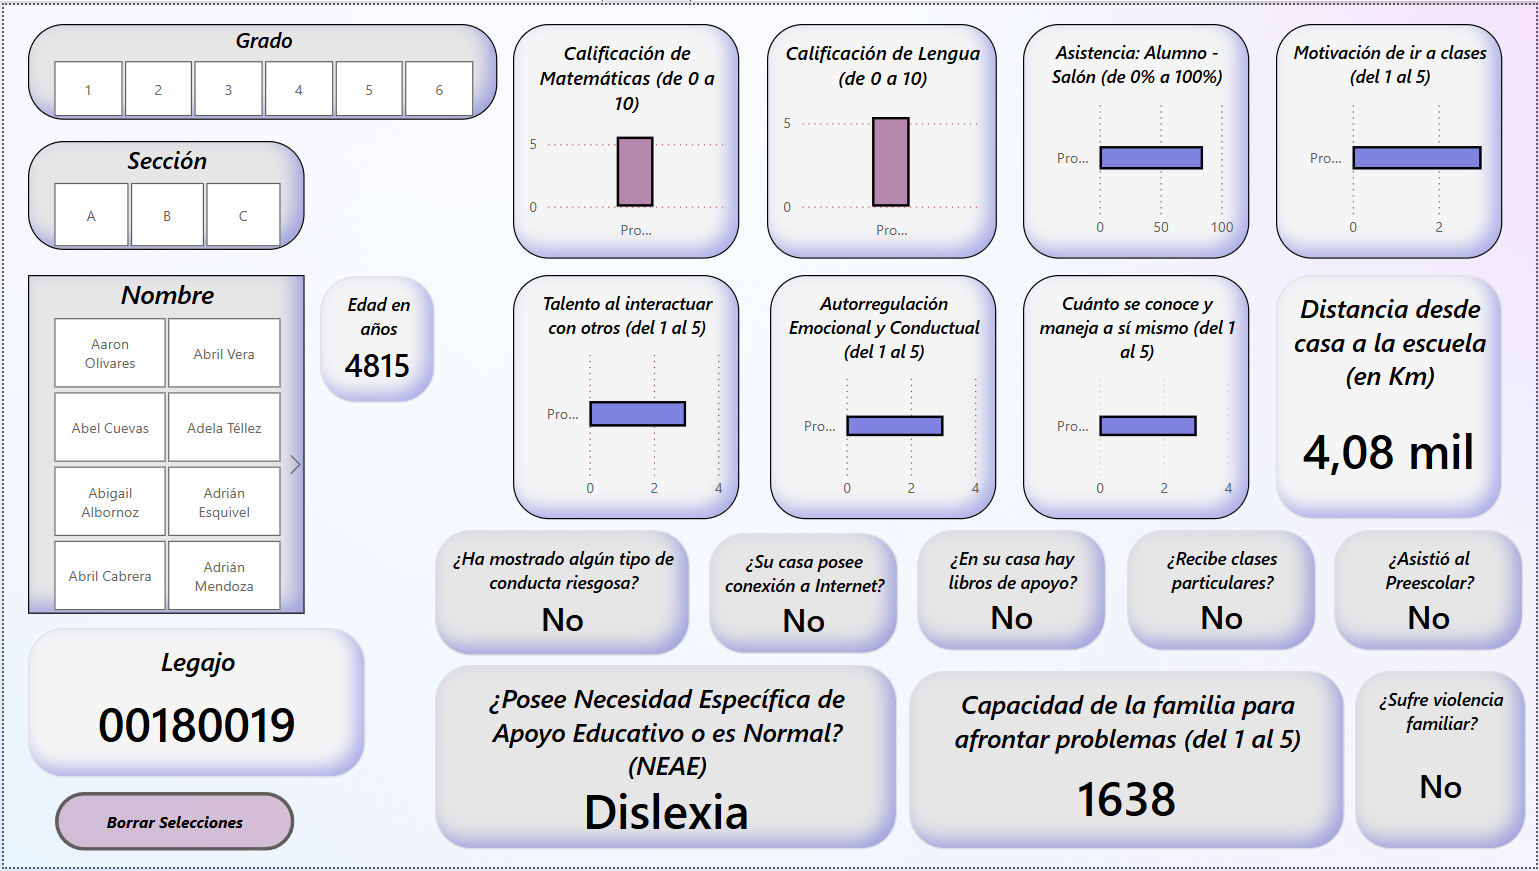

Layout of this report page (visuals, bound fields, positions):
{"tool":"powerbi","page":{"name":"X","canvas":[1280,720],"ordinal":0},"visuals":[{"type":"slicer","title":"Grado","fields":{"Values":["simulacion_estudiantes.grado"]},"box":[20.4,15.6,392,79.8],"z":0},{"type":"slicer","title":"Sección","fields":{"Values":["simulacion_estudiantes.seccion"]},"box":[20.4,113.8,230.5,91.4],"z":1000},{"type":"slicer","title":"Nombre","fields":{"Values":["simulacion_estudiantes.nombre"]},"box":[20.4,225.7,230.5,283],"z":2000},{"type":"card","title":"Legajo","fields":{"Values":["Min(simulacion_estudiantes.legajo)"]},"box":[20.4,520.4,282.1,125.5],"z":3000},{"type":"columnChart","title":"Calificación de Matemáticas (de 0 a 10)","fields":{"Y":["Comparacion.ValorComparacion"],"Category":["Comparacion.Tipo"]},"box":[425,15.6,188.7,195.5],"z":4000},{"type":"actionButton","box":[43,657,200,49],"z":5000},{"type":"clusteredColumnChart","title":"Calificación de Lengua (de 0 a 10)","fields":{"Category":["Comparacion.Tipo"],"Y":["Comparacion.ValorComparacionLengua"]},"box":[637.1,15.6,191.6,195.5],"z":6000},{"type":"barChart","title":"Asistencia: Alumno - Salón (de 0% a 100%)","fields":{"Category":["Comparacion.Tipo"],"Y":["Comparacion.ValorComparacionAsistencia"]},"box":[851.1,15.6,188.7,195.5],"z":7000},{"type":"barChart","title":"Motivación de ir a clases (del 1 al 5)","fields":{"Category":["Comparacion.Tipo"],"Y":["Comparacion.ValorComparacionMotivacion"]},"box":[1062.1,15.6,188.7,195.5],"z":8000},{"type":"barChart","title":"Autorregulación Emocional y Conductual (del 1 al 5)","fields":{"Category":["Comparacion.Tipo"],"Y":["Comparacion.ValorComparacionAutorregulacion"]},"box":[640,225.7,188.7,204.3],"z":9000},{"type":"barChart","title":"Talento al interactuar con otros (del 1 al 5)","fields":{"Category":["Comparacion.Tipo"],"Y":["Comparacion.ValorComparacionInterpersonal"]},"box":[425,225.7,188.7,204.3],"z":10000},{"type":"barChart","title":"Cuánto se conoce y maneja a sí mismo (del 1 al 5)","fields":{"Category":["Comparacion.Tipo"],"Y":["Comparacion.ValorComparacionIntrapersonal"]},"box":[851.1,225.7,188.7,204.3],"z":11000},{"type":"card","title":"¿En su casa hay libros de apoyo?","fields":{"Values":["simulacion_estudiantes.TieneLibrosEnCasa"]},"box":[762.6,438.7,157.6,101.2],"z":12000},{"type":"card","title":"¿Su casa posee conexión a Internet?","fields":{"Values":["simulacion_estudiantes.TieneInternetEnCasa"]},"box":[588.4,440.6,157.6,101.2],"z":13000},{"type":"card","title":"Distancia desde casa a la escuela (en Km)","fields":{"Values":["Sum(simulacion_estudiantes.distancia_escuela_km)"]},"box":[1062.1,225.7,188.7,204.3],"z":14000},{"type":"card","title":"¿Recibe clases particulares?","fields":{"Values":["simulacion_estudiantes.AdecuacionesCurriculares"]},"box":[937.6,438.7,157.6,101.2],"z":15000},{"type":"card","title":"¿Posee Necesidad Específica de Apoyo Educativo o es Normal? (NEAE)","fields":{"Values":["Min(simulacion_estudiantes.tipo_neae)"]},"box":[359.9,551.5,386.1,153.7],"z":16000},{"type":"card","title":"¿Sufre violencia familiar?","fields":{"Values":["simulacion_estudiantes.ViolenciaFamiliar"]},"box":[1128.3,556.4,143,148.8],"z":17000},{"type":"card","title":"¿Ha mostrado algún tipo de conducta riesgosa?","fields":{"Values":["simulacion_estudiantes.ConductaRiesgoObservada"]},"box":[359.9,438.7,213,105],"z":18000},{"type":"card","title":"Capacidad de la familia para afrontar problemas (del 1 al 5)","fields":{"Values":["Sum(simulacion_estudiantes.resiliencia_familiar)"]},"box":[755.7,556.4,363.8,148.8],"z":19000},{"type":"card","title":"Edad en años","fields":{"Values":["Sum(simulacion_estudiantes.edad)"]},"box":[263.6,226.6,96.3,106],"z":20000},{"type":"card","title":"¿Asistió al Preescolar?","fields":{"Values":["simulacion_estudiantes.AsistenciaInicial"]},"box":[1110.8,438.7,157.6,101.2],"z":21000}]}

Visuals, with their boxes in screenshot pixels (x1, y1, x2, y2), scaled from the page's 1280x720 canvas onto the 1539x871 screenshot:
"Grado" slicer: (left=25, top=19, right=496, bottom=115)
"Sección" slicer: (left=25, top=138, right=302, bottom=248)
"Nombre" slicer: (left=25, top=273, right=302, bottom=615)
"Legajo" card: (left=25, top=630, right=364, bottom=781)
"Calificación de Matemáticas (de 0 a 10)" columnChart: (left=511, top=19, right=738, bottom=255)
actionButton: (left=52, top=795, right=292, bottom=854)
"Calificación de Lengua (de 0 a 10)" clusteredColumnChart: (left=766, top=19, right=996, bottom=255)
"Asistencia: Alumno - Salón (de 0% a 100%)" barChart: (left=1023, top=19, right=1250, bottom=255)
"Motivación de ir a clases (del 1 al 5)" barChart: (left=1277, top=19, right=1504, bottom=255)
"Autorregulación Emocional y Conductual (del 1 al 5)" barChart: (left=770, top=273, right=996, bottom=520)
"Talento al interactuar con otros (del 1 al 5)" barChart: (left=511, top=273, right=738, bottom=520)
"Cuánto se conoce y maneja a sí mismo (del 1 al 5)" barChart: (left=1023, top=273, right=1250, bottom=520)
"¿En su casa hay libros de apoyo?" card: (left=917, top=531, right=1106, bottom=653)
"¿Su casa posee conexión a Internet?" card: (left=707, top=533, right=897, bottom=655)
"Distancia desde casa a la escuela (en Km)" card: (left=1277, top=273, right=1504, bottom=520)
"¿Recibe clases particulares?" card: (left=1127, top=531, right=1317, bottom=653)
"¿Posee Necesidad Específica de Apoyo Educativo o es Normal? (NEAE)" card: (left=433, top=667, right=897, bottom=853)
"¿Sufre violencia familiar?" card: (left=1357, top=673, right=1529, bottom=853)
"¿Ha mostrado algún tipo de conducta riesgosa?" card: (left=433, top=531, right=689, bottom=658)
"Capacidad de la familia para afrontar problemas (del 1 al 5)" card: (left=909, top=673, right=1346, bottom=853)
"Edad en años" card: (left=317, top=274, right=433, bottom=402)
"¿Asistió al Preescolar?" card: (left=1336, top=531, right=1525, bottom=653)
